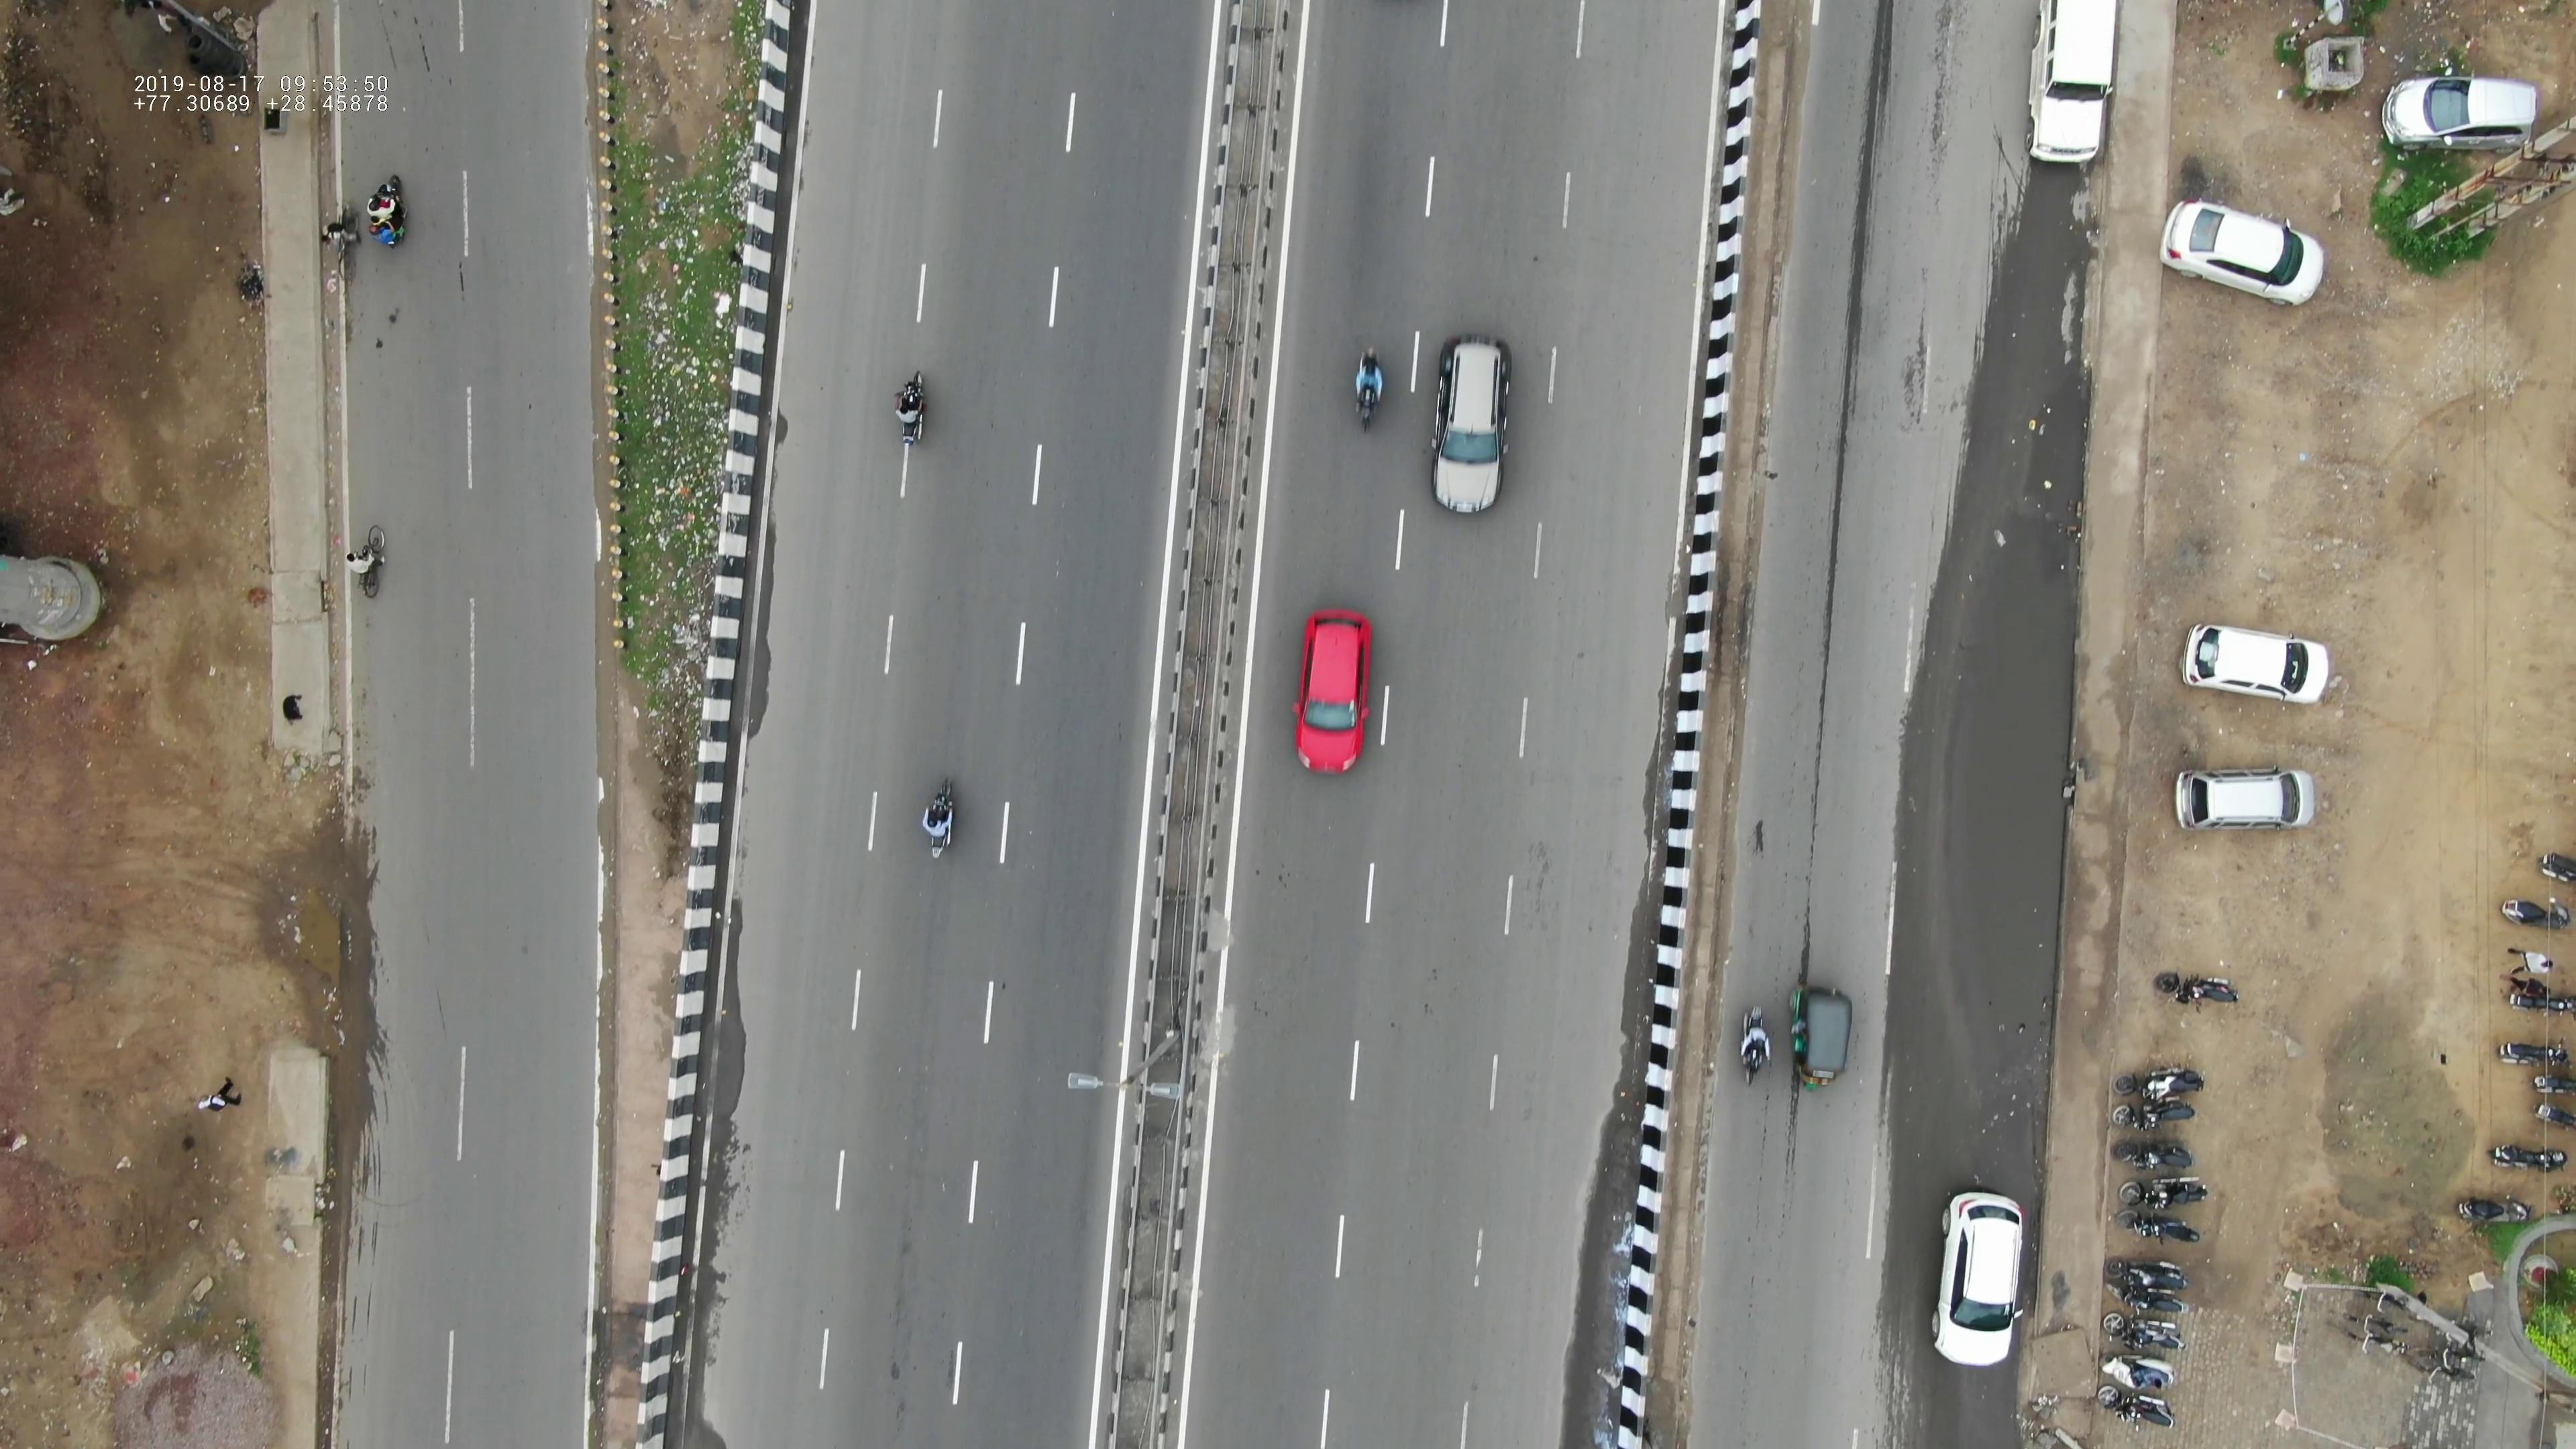Muddy_road: (269, 846, 398, 1141)
Waterlogging: (1913, 899, 2065, 1168), (1941, 586, 2077, 879)
